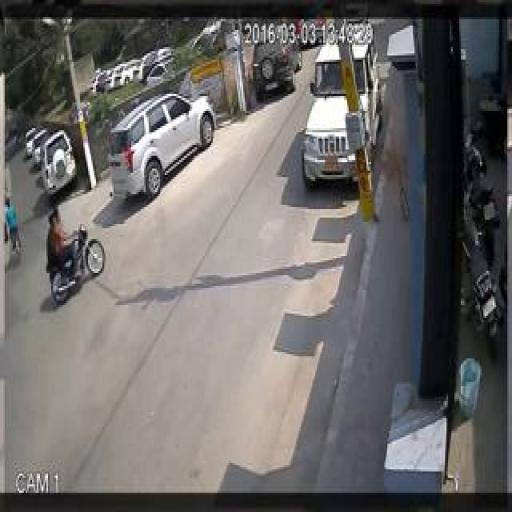Car: (304, 36, 383, 186), (107, 88, 216, 194), (251, 40, 298, 102), (38, 130, 79, 196), (300, 17, 331, 48), (26, 128, 50, 166), (92, 68, 114, 94)
Motor: (43, 204, 108, 304)
